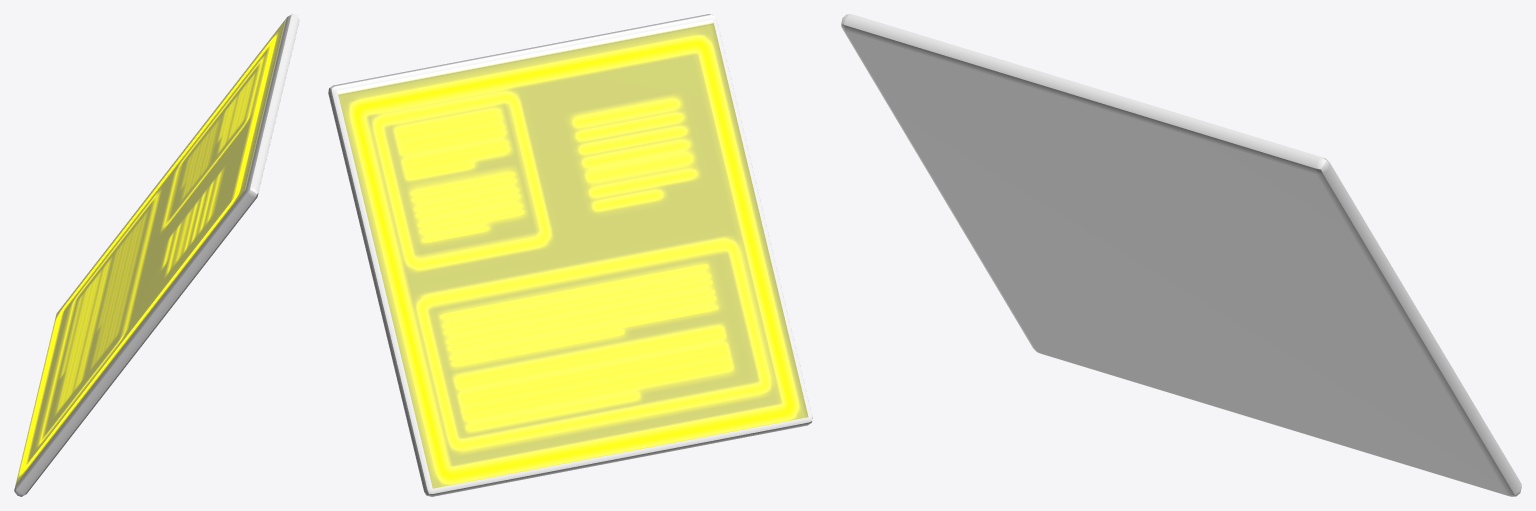
The model's file is BridgeSingleScreen_02.fbx.
3 renders of one model, left to right at view 1: azimuth 30°, elevation 25°; view 2: azimuth 150°, elevation 25°; view 3: azimuth 270°, elevation 25°, orthographic. The views are drawn at different scales.
Visible parts, largest first — view 1: Bridge_SingleScreen_02; view 2: Bridge_SingleScreen_02; view 3: Bridge_SingleScreen_02.
Part boxes in pixels (x1=…): Bridge_SingleScreen_02: x1=14, y1=14, x2=299, y2=496; Bridge_SingleScreen_02: x1=328, y1=14, x2=812, y2=496; Bridge_SingleScreen_02: x1=841, y1=14, x2=1521, y2=496.
Size of the model in its own units: 316 by 252 by 344.
